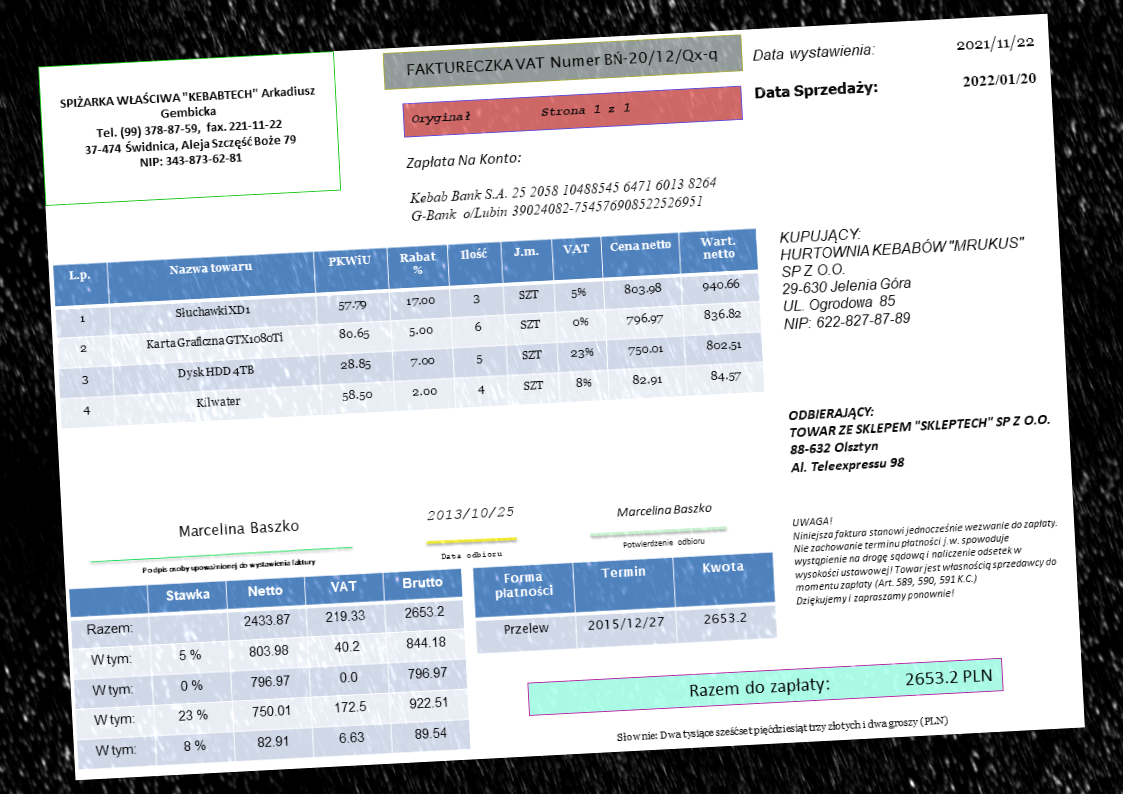Table: (51, 224, 767, 430), (67, 568, 472, 771), (471, 551, 778, 655)
TextBox: (775, 215, 1031, 333), (789, 502, 1062, 609), (56, 79, 320, 175), (784, 392, 1055, 477), (408, 172, 720, 225), (402, 44, 720, 82), (614, 711, 951, 746), (687, 664, 993, 701), (408, 99, 635, 129), (139, 556, 318, 578), (752, 77, 882, 105), (749, 39, 877, 66), (403, 147, 526, 173), (177, 517, 300, 540), (951, 31, 1038, 56), (614, 500, 714, 520), (424, 503, 518, 523), (959, 69, 1040, 90), (621, 535, 707, 551), (439, 546, 504, 562)
